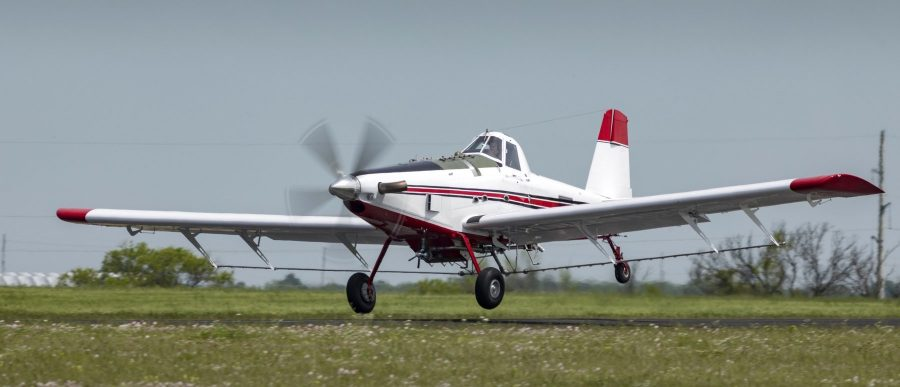Aeronef_de_service: (47, 99, 889, 318)
